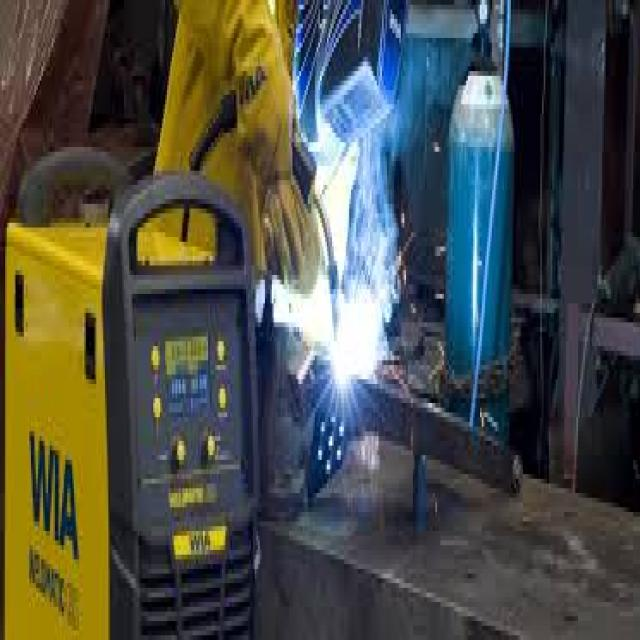welding: (331, 334, 353, 392)
